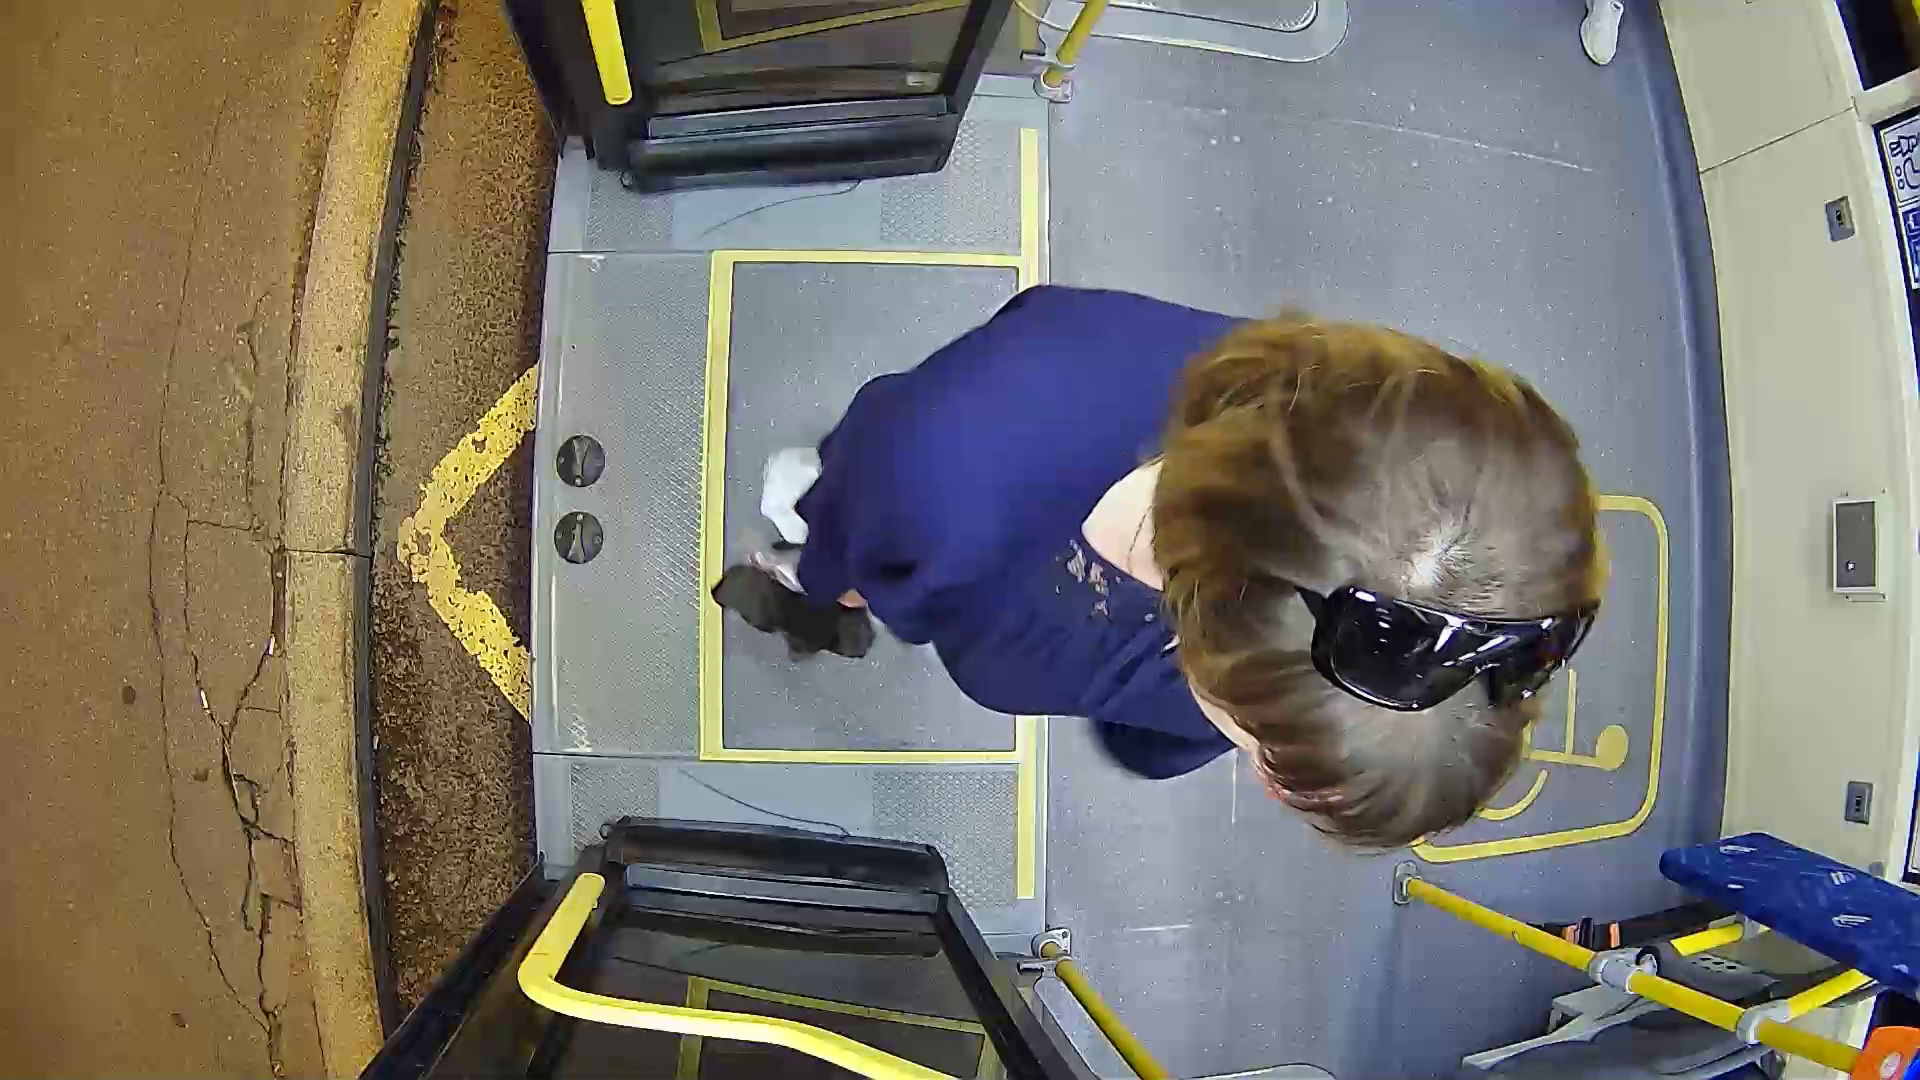person: (764, 256, 1610, 847)
